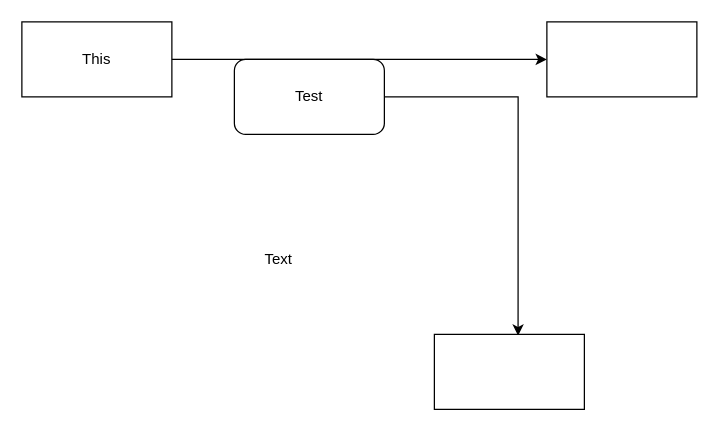
Some shapes in this 719 by 431 pixel diagram are drawn without their labels. Here are the shapes that lost their labels. From the top down, the centre of each, then its label:
(621,59): That
(508,371): aaaa
